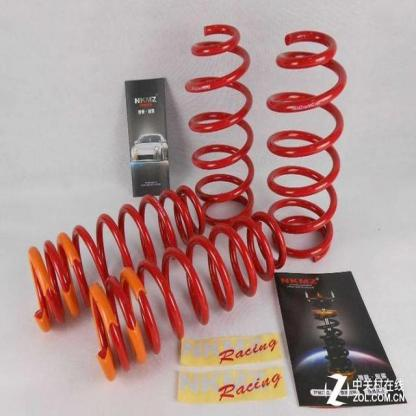FOD: (89, 210, 284, 380), (24, 182, 204, 335), (265, 26, 349, 260), (180, 21, 256, 227)
